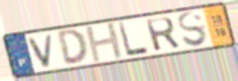D: (56, 28, 90, 66)
H: (84, 21, 126, 65)
L: (117, 21, 151, 59)
R: (144, 16, 183, 53)
S: (176, 11, 209, 49)
V: (26, 32, 56, 69)
